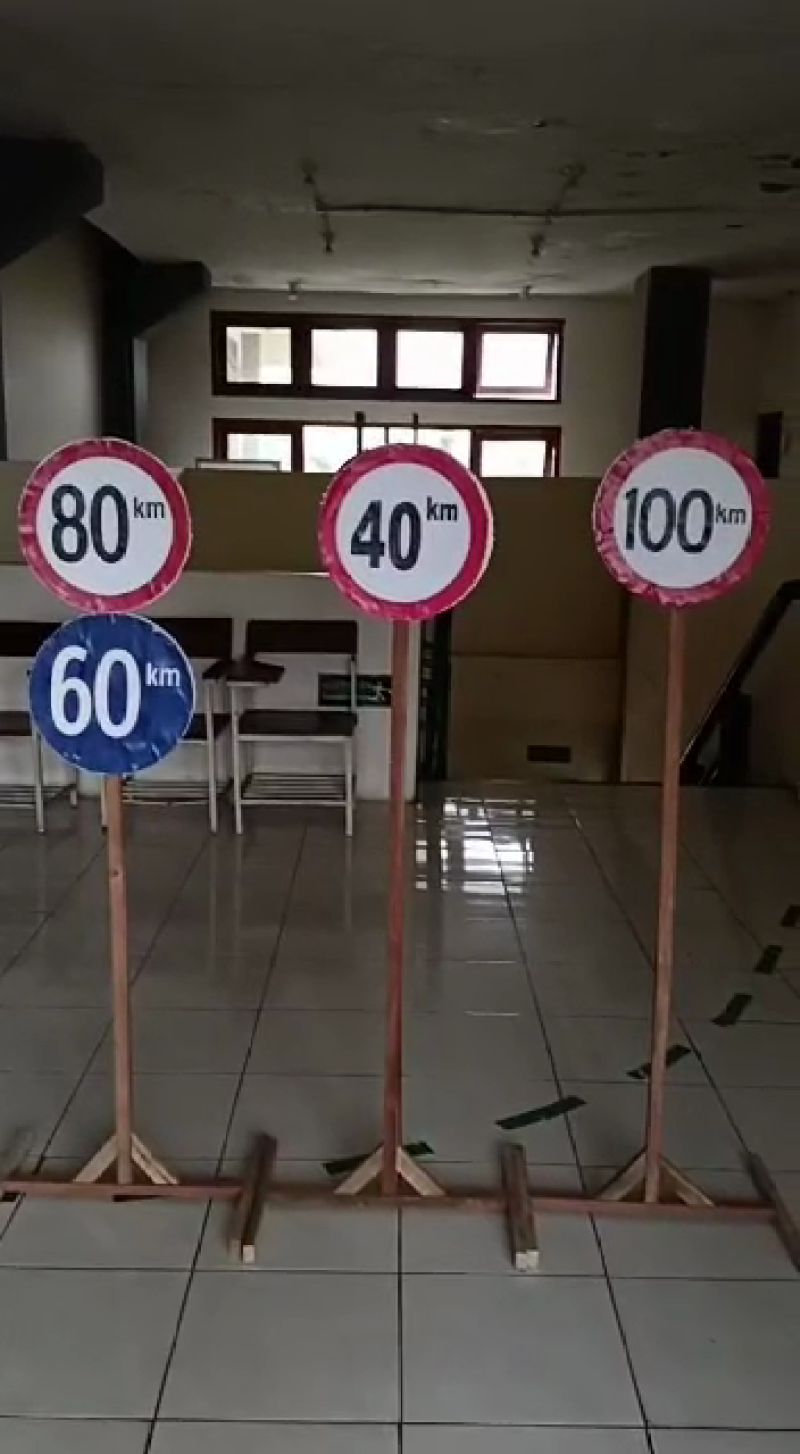batas maksimal 100kmperjam: (581, 424, 779, 609)
batas maksimal 40kmperjam: (307, 424, 503, 631)
batas maksimal 80kmperjam minimal 60kmperjam: (9, 424, 211, 783)
